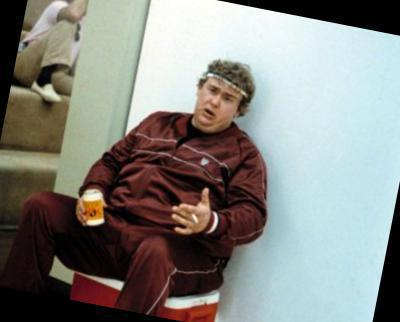Drunk: (199, 74, 238, 129)
